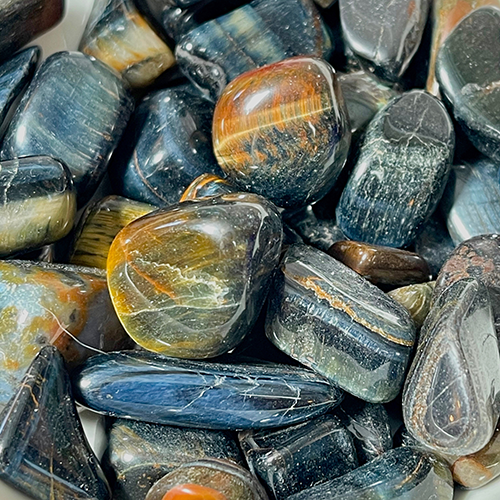Tigers_Eye: (104, 186, 285, 360)
